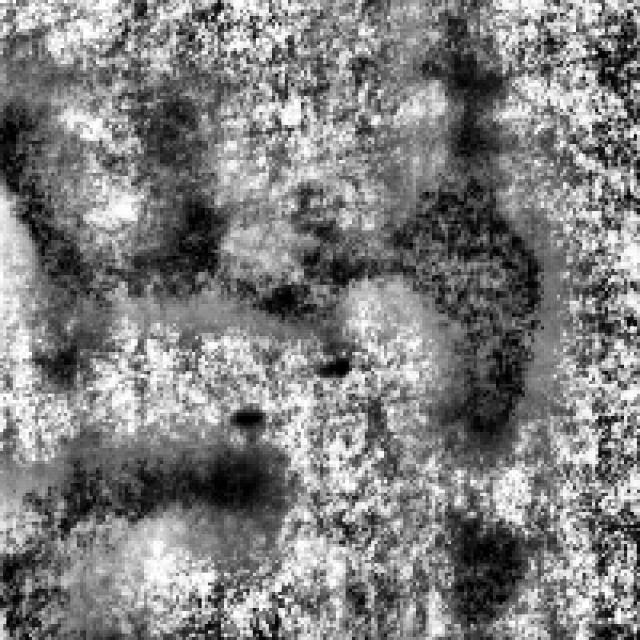Scratches: (390, 44, 548, 438), (0, 438, 275, 637), (121, 140, 372, 324), (0, 87, 109, 310)
